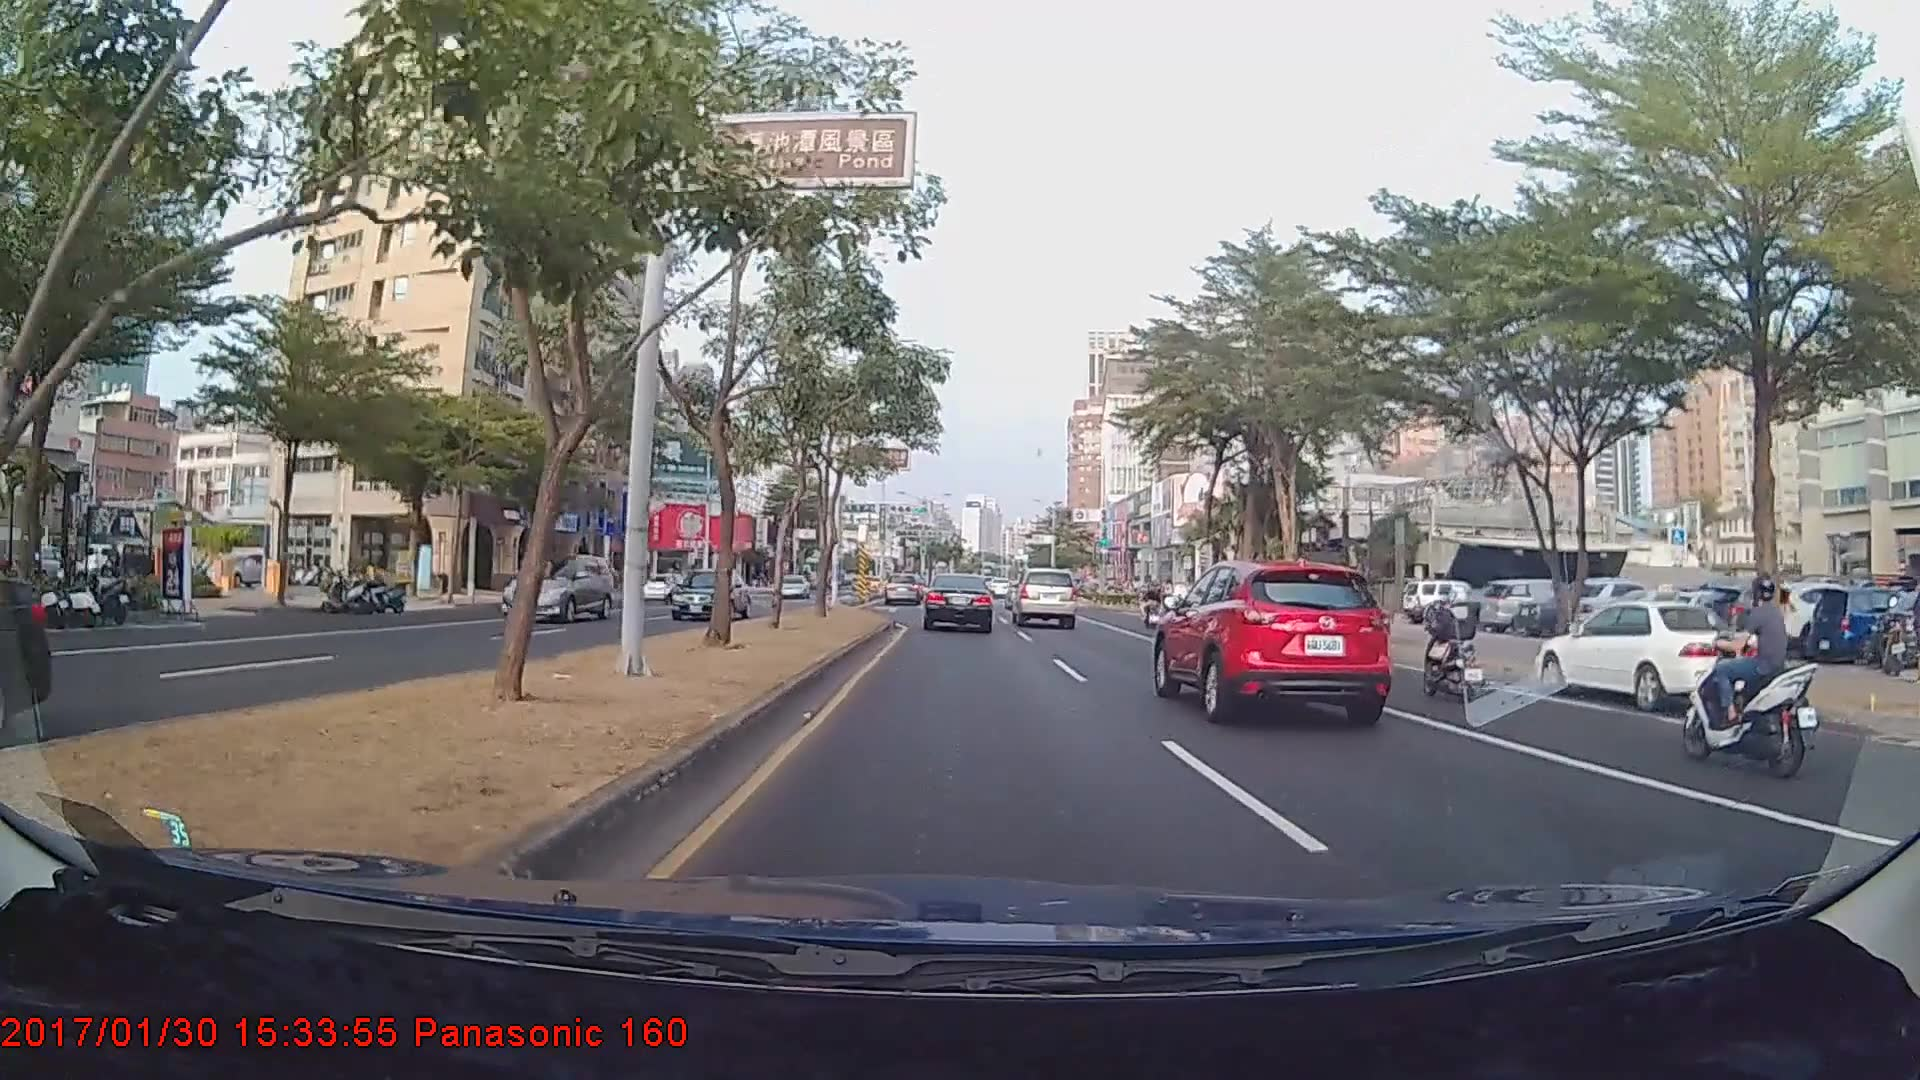pedestrian: (1851, 569, 1896, 672)
rider: (1674, 555, 1828, 776), (1408, 579, 1493, 703)
vehicle: (1150, 557, 1392, 727), (1534, 597, 1769, 708), (499, 552, 614, 624), (1476, 575, 1583, 633), (923, 572, 994, 633), (667, 567, 750, 619), (1011, 567, 1077, 628), (641, 571, 691, 601), (883, 571, 924, 606), (777, 575, 807, 600)
